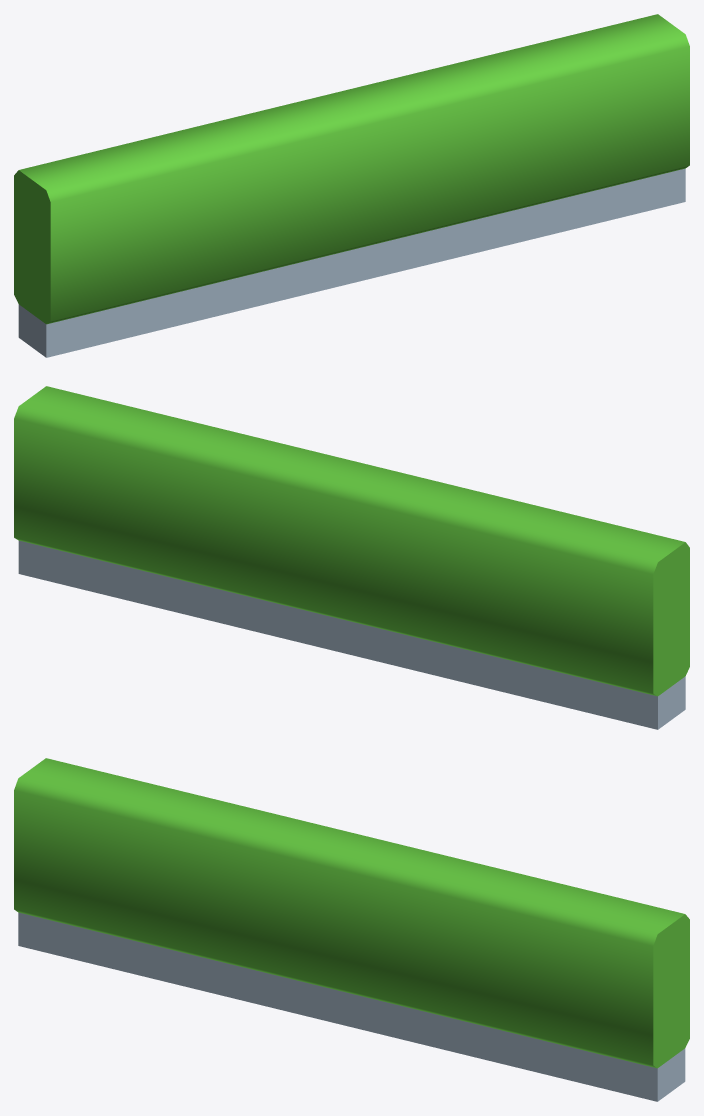
Rendered from Wall_line.fbx.
3 views of the same model, one above another, from view 1: azimuth 30°, elevation 25°; view 2: azimuth 150°, elevation 25°; view 3: azimuth 330°, elevation 25° (orthographic).
Visible parts, largest first — view 1: Fence_line; view 2: Fence_line; view 3: Fence_line.
Part boxes in pixels (x1=…): Fence_line: x1=14, y1=14, x2=689, y2=357; Fence_line: x1=14, y1=386, x2=689, y2=729; Fence_line: x1=14, y1=758, x2=689, y2=1101.
Bounding box in the file's own units: 4 × 1 × 0.3977.
